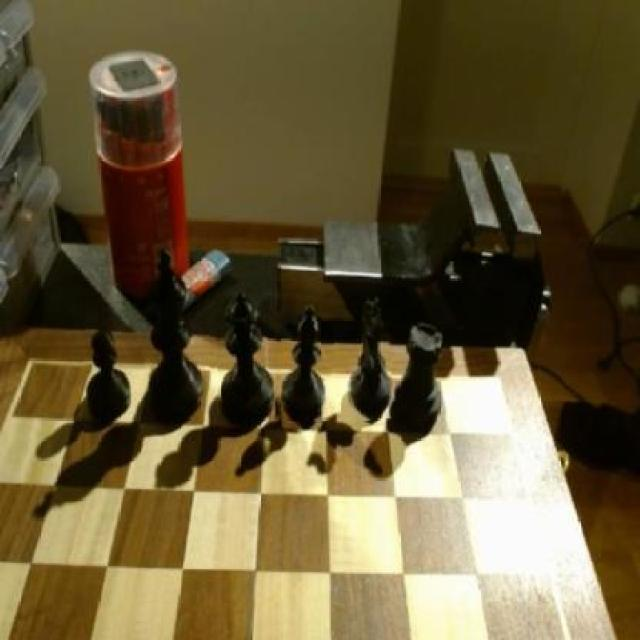bishop: (275, 300, 333, 422)
black-bishop: (144, 248, 210, 420)
black-king: (346, 297, 392, 421)
black-knight: (82, 324, 136, 424)
black-pawn: (216, 289, 280, 429)
black-queen: (397, 316, 450, 436)
